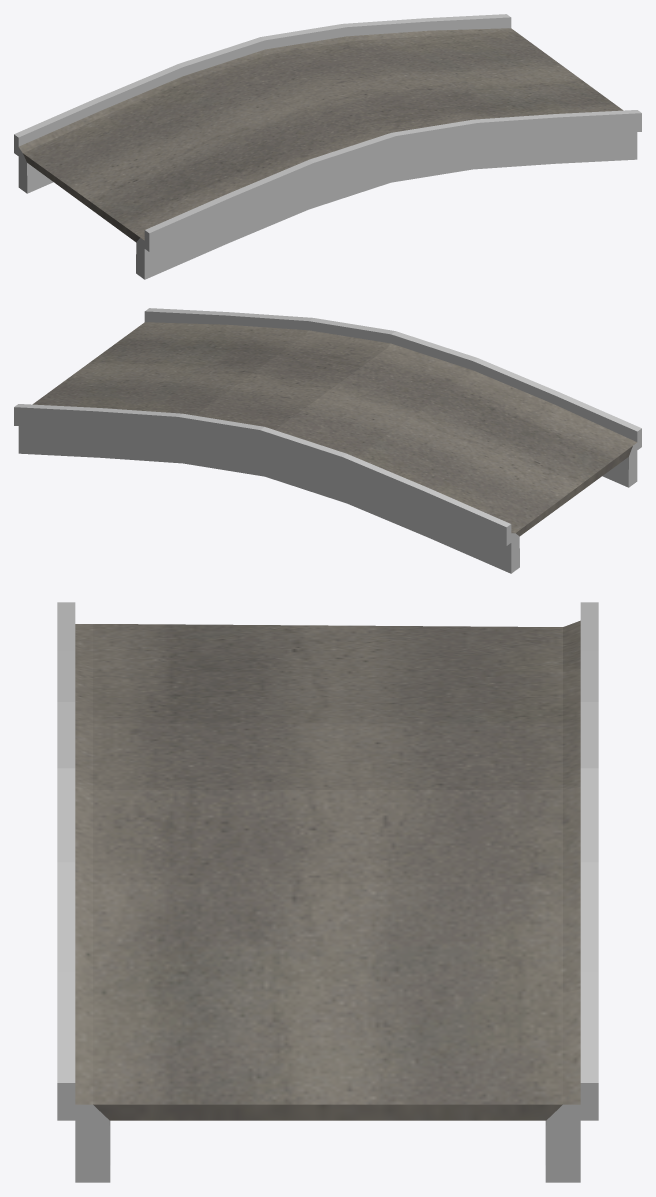
Rendered from Urban_Road3SmallBridgeNoSides_Model.fbx.
3 renders of one model, top to bottom at view 1: azimuth 30°, elevation 25°; view 2: azimuth 150°, elevation 25°; view 3: azimuth 270°, elevation 25°, orthographic. The views are drawn at different scales.
Parts seen in each view (by area): view 1: Urban_Road3SmallBridgeNoSides_Mesh; view 2: Urban_Road3SmallBridgeNoSides_Mesh; view 3: Urban_Road3SmallBridgeNoSides_Mesh.
Boxes of the visible parts, left/top/right/bottom form: Urban_Road3SmallBridgeNoSides_Mesh: left=14, top=14, right=641, bottom=279; Urban_Road3SmallBridgeNoSides_Mesh: left=14, top=308, right=641, bottom=573; Urban_Road3SmallBridgeNoSides_Mesh: left=57, top=602, right=598, bottom=1182.
Bounding box in the file's own units: 36 × 6.07 × 17.13.
